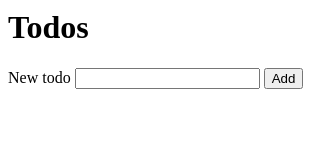
it: App › adds a todo when the Add button is clicked and clears the input
Type "Walk dog" into the field labelled "New todo" at (167, 78), box [75, 68, 260, 89]
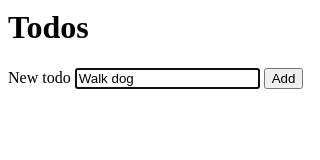
Click the button "Add" at (284, 78), box [264, 68, 303, 89]
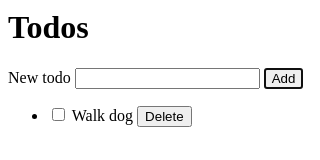
Expected: the field labelled "New todo" is empty, [75, 68, 260, 89]
